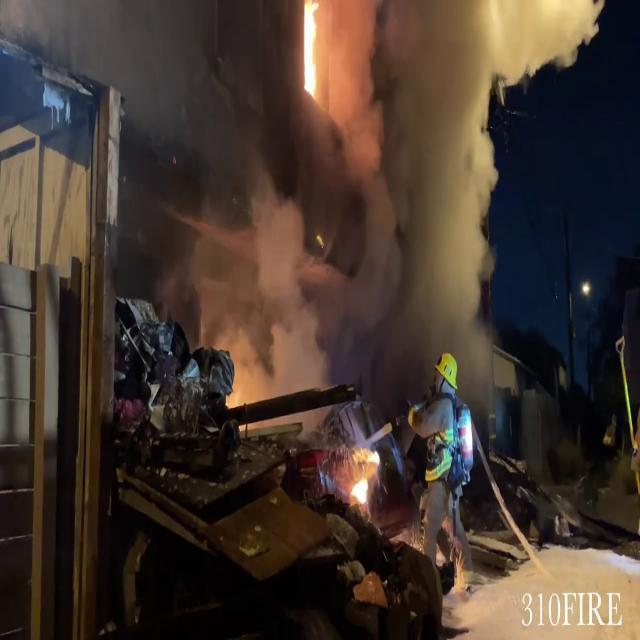Fire: (300, 1, 323, 98), (344, 450, 381, 508)
Smoke: (329, 0, 508, 340), (169, 114, 340, 433)
